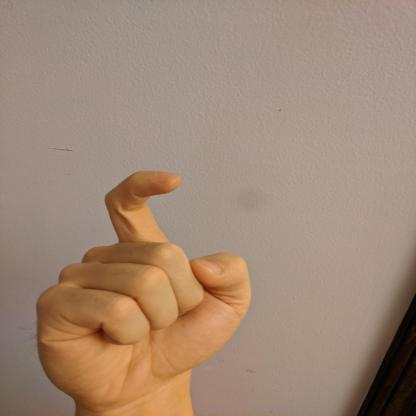X: (36, 171, 251, 404)
